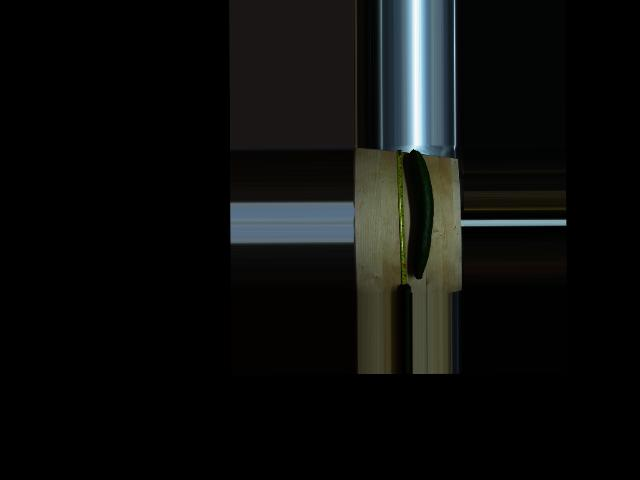cucumber: (407, 149, 433, 279)
